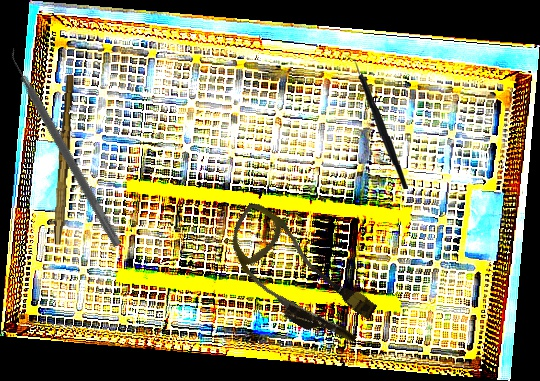Cannula: (208, 199, 389, 356)
Chopper: (343, 52, 409, 192)
Scalpel Handle: (53, 74, 76, 245)
Spatula Surgical: (2, 44, 131, 248)
